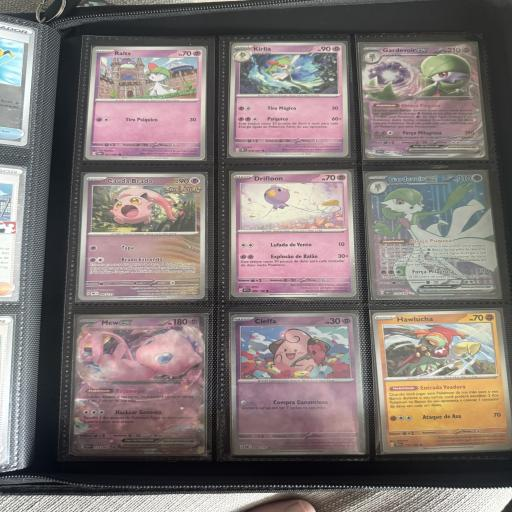card: (373, 303, 512, 459), (70, 312, 208, 457), (229, 312, 366, 457), (363, 169, 502, 301), (78, 172, 207, 304), (229, 170, 357, 299), (358, 43, 487, 159), (84, 44, 207, 161), (227, 42, 350, 157)
